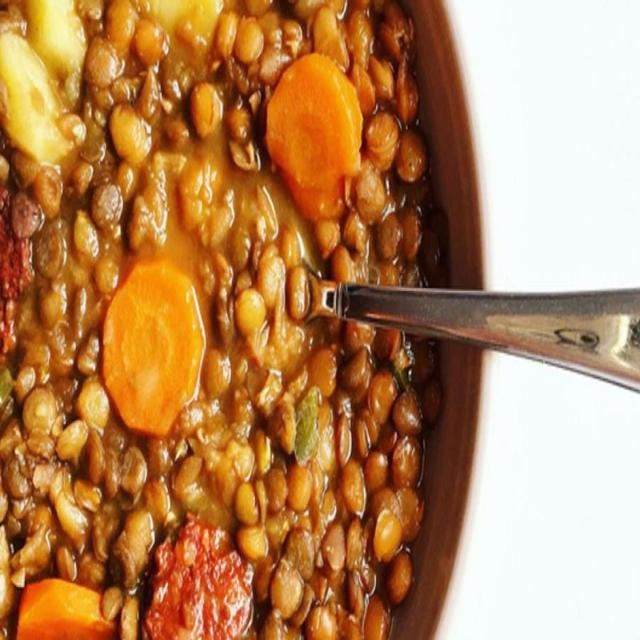lentejas: (2, 2, 472, 633)
